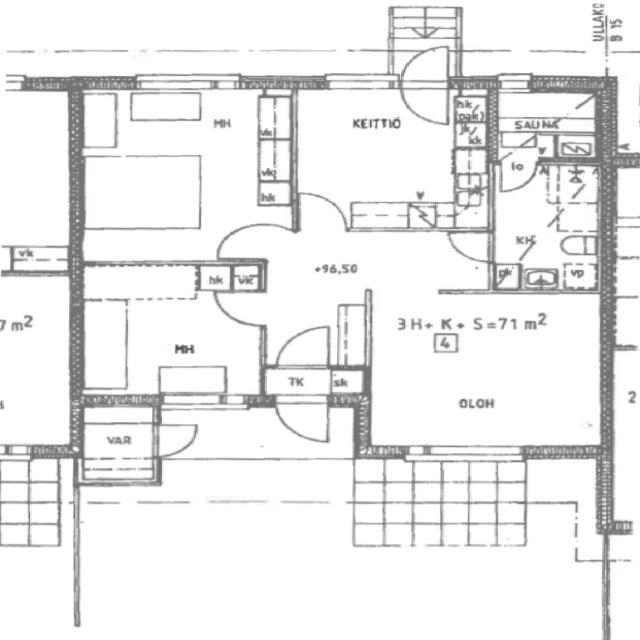door: (79, 402, 161, 487), (395, 44, 453, 127), (272, 392, 335, 448), (272, 322, 339, 373), (208, 219, 277, 264), (146, 419, 208, 460), (294, 190, 349, 232), (208, 289, 266, 328), (444, 227, 496, 266), (495, 157, 543, 196)
window: (404, 441, 526, 468), (134, 71, 242, 92), (320, 72, 396, 94)
zone: (357, 290, 615, 456), (77, 85, 298, 271), (286, 84, 490, 230), (75, 263, 265, 402), (0, 262, 84, 459), (435, 0, 625, 85), (490, 161, 608, 292), (0, 84, 80, 271), (489, 85, 600, 161), (77, 402, 159, 487), (195, 262, 265, 290)
